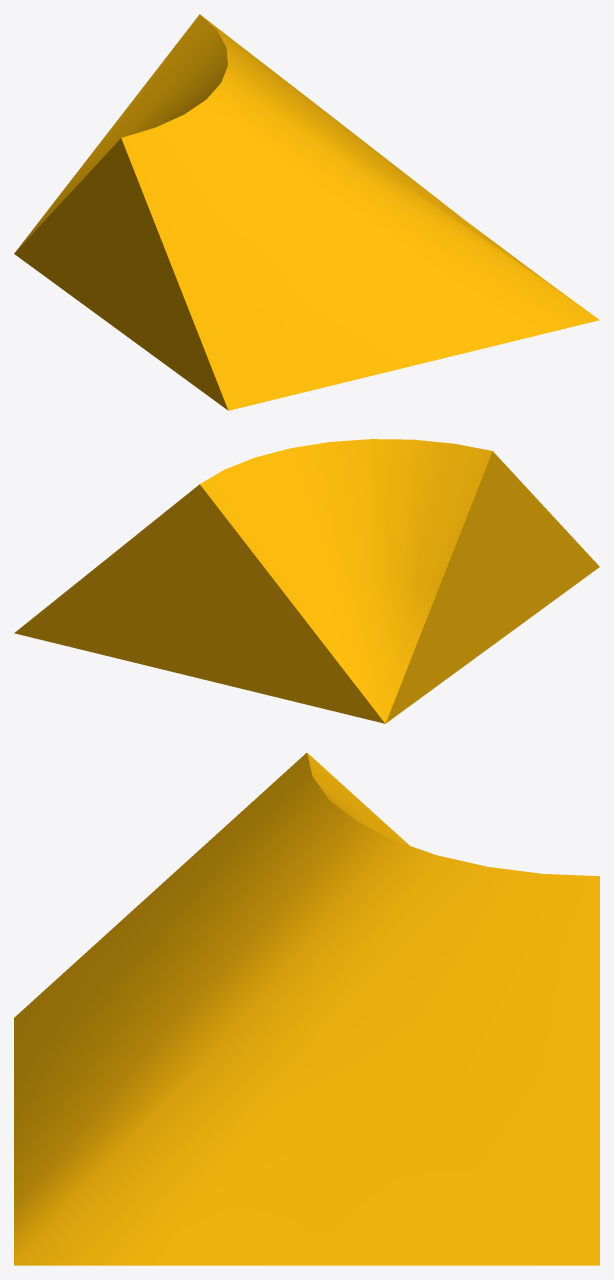
The model's file is Quarter_Circle_Horizontal_Half.fbx.
The picture shows the model from 3 angles, top to bottom: view 1: azimuth 30°, elevation 25°; view 2: azimuth 150°, elevation 25°; view 3: azimuth 270°, elevation 25°; orthographic projection. The views are drawn at different scales.
Visible parts, largest first — view 1: Quarter_Circle_Horizontal_Half; view 2: Quarter_Circle_Horizontal_Half; view 3: Quarter_Circle_Horizontal_Half.
Boxes of the visible parts, x1,y1,x2,y2 form: Quarter_Circle_Horizontal_Half: [14, 14, 599, 410]; Quarter_Circle_Horizontal_Half: [14, 439, 599, 723]; Quarter_Circle_Horizontal_Half: [14, 753, 599, 1265].
Bounding box in the file's own units: 1 × 0.5 × 1.
